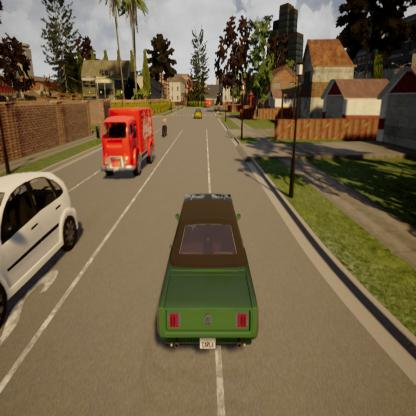Cars: (143, 184, 267, 359), (0, 159, 89, 332), (93, 102, 157, 183)
